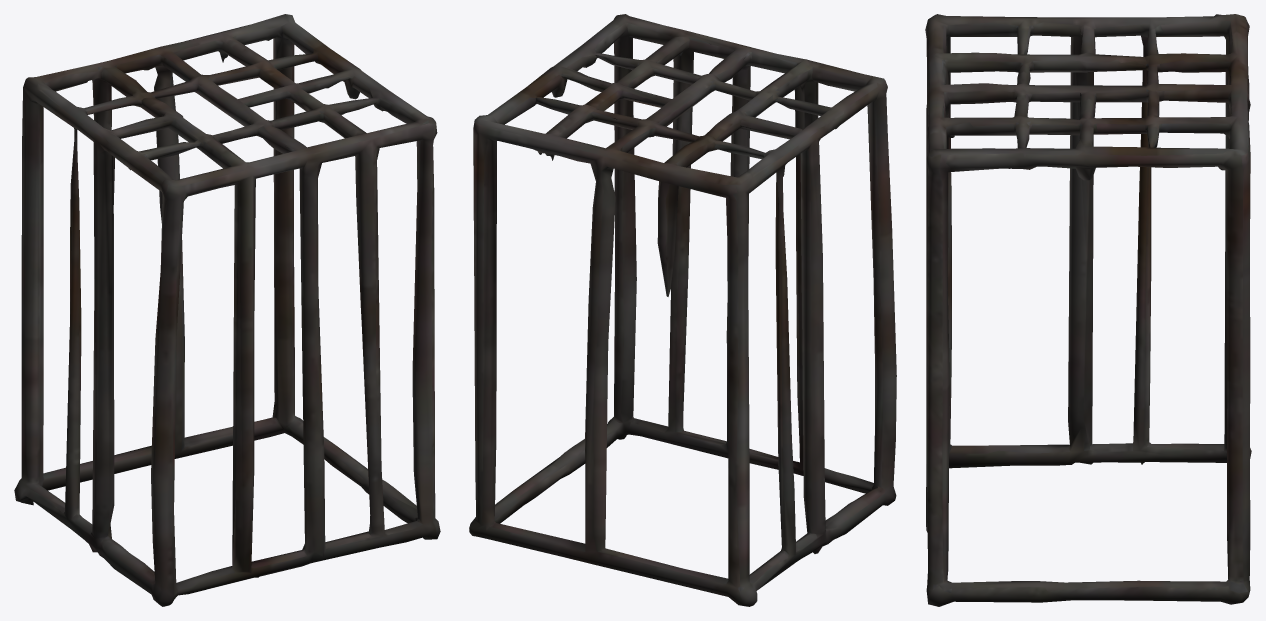
Rendered from simple-iron-portcullis-v002.glb.
3 renders of one model, left to right at view 1: azimuth 30°, elevation 25°; view 2: azimuth 150°, elevation 25°; view 3: azimuth 270°, elevation 25°, orthographic. The views are drawn at different scales.
Parts seen in each view (by area): view 1: simple-iron-portcullis; view 2: simple-iron-portcullis; view 3: simple-iron-portcullis.
Part boxes in pixels (x1,y1,x2,y2): simple-iron-portcullis: [14, 14, 440, 606]; simple-iron-portcullis: [469, 14, 896, 606]; simple-iron-portcullis: [925, 14, 1251, 606].
Size of the model in its own units: 1.75 by 2.5 by 1.61.
Materials: 1 (1 with a texture image).
